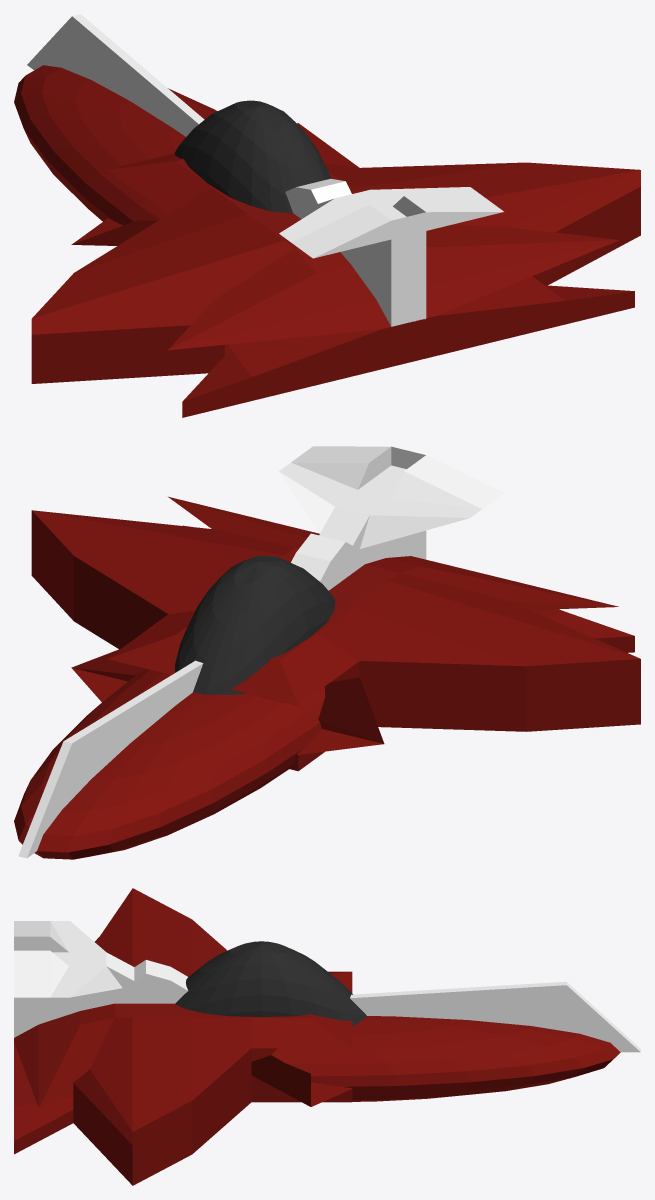
Rendered from Red_Ship.fbx.
3 views of the same model, one above another, from view 1: azimuth 30°, elevation 25°; view 2: azimuth 150°, elevation 25°; view 3: azimuth 270°, elevation 25° (orthographic). The views are drawn at different scales.
Visible parts, largest first — view 1: Spaceship:Layer4, Spaceship:Layer5, Spaceship:Layer1, Spaceship:Layer2, Spaceship:Layer3; view 2: Spaceship:Layer4, Spaceship:Layer1, Spaceship:Layer5, Spaceship:Layer2, Spaceship:Layer3; view 3: Spaceship:Layer4, Spaceship:Layer1, Spaceship:Layer5, Spaceship:Layer2, Spaceship:Layer3.
Boxes of the visible parts, x1=… form: Spaceship:Layer4: x1=31, y1=123, x2=640, y2=417; Spaceship:Layer5: x1=279, y1=178, x2=503, y2=326; Spaceship:Layer1: x1=14, y1=65, x2=217, y2=225; Spaceship:Layer2: x1=175, y1=100, x2=331, y2=213; Spaceship:Layer3: x1=27, y1=14, x2=204, y2=136; Spaceship:Layer4: x1=31, y1=496, x2=640, y2=771; Spaceship:Layer1: x1=14, y1=669, x2=325, y2=859; Spaceship:Layer5: x1=279, y1=446, x2=503, y2=590; Spaceship:Layer2: x1=171, y1=555, x2=335, y2=694; Spaceship:Layer3: x1=18, y1=660, x2=203, y2=858; Spaceship:Layer4: x1=14, y1=888, x2=352, y2=1185; Spaceship:Layer1: x1=271, y1=1016, x2=620, y2=1101; Spaceship:Layer5: x1=14, y1=921, x2=188, y2=1037; Spaceship:Layer2: x1=175, y1=941, x2=366, y2=1025; Spaceship:Layer3: x1=350, y1=981, x2=640, y2=1052.
Bounding box in the file's own units: 350 × 95.33 × 380.
